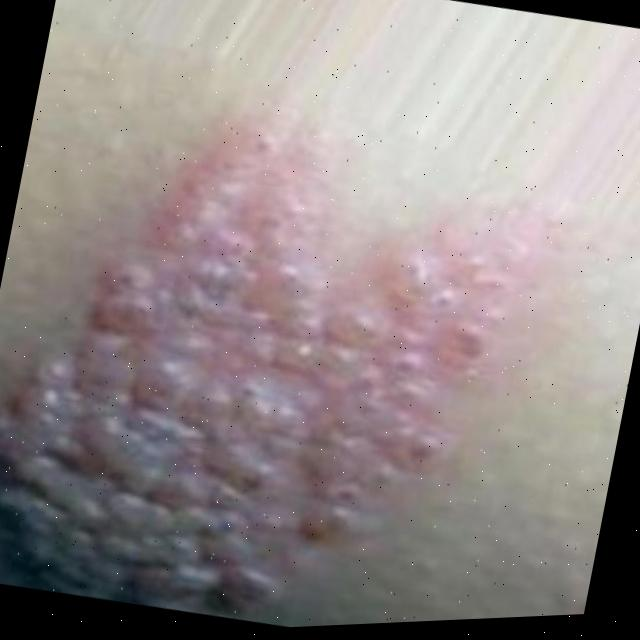Shingles: (0, 72, 539, 640)
